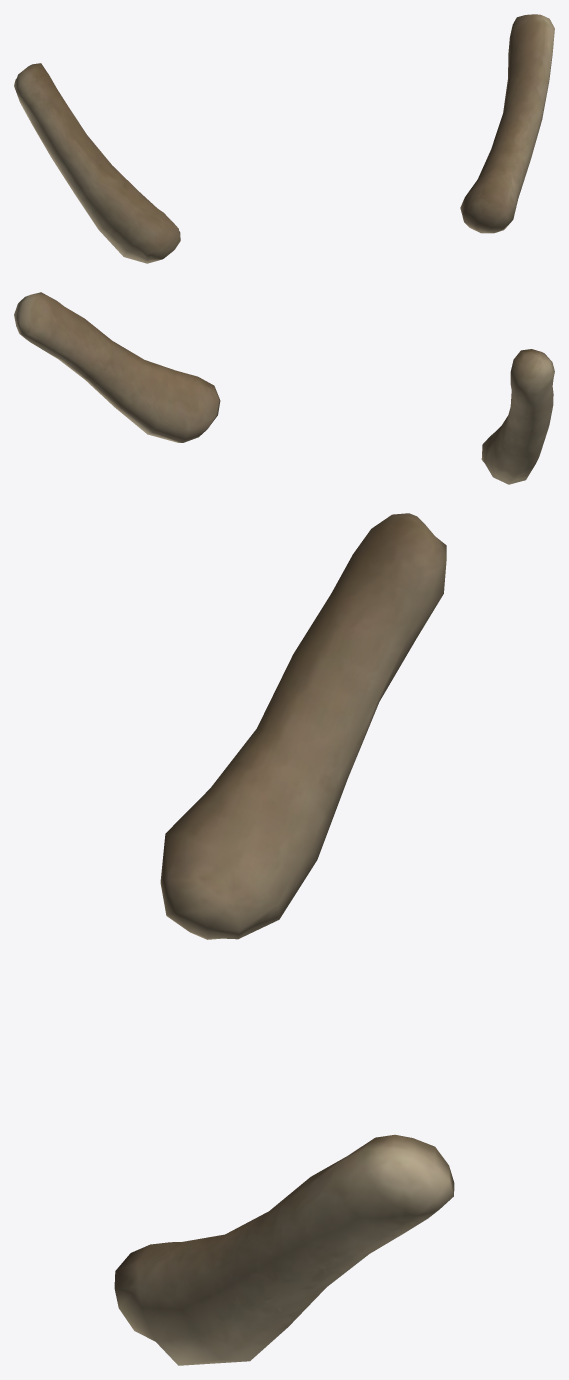
File: Thyrohyoid.glb
The picture shows the model from 3 angles, top to bottom: view 1: azimuth 30°, elevation 25°; view 2: azimuth 150°, elevation 25°; view 3: azimuth 270°, elevation 25°; orthographic projection. The views are drawn at different scales.
Visible parts, largest first — view 1: Thyrohyoid1:Group57151; view 2: Thyrohyoid1:Group57151; view 3: Thyrohyoid1:Group57151.
Boxes of the visible parts, bbox=[...] form: Thyrohyoid1:Group57151: bbox=[14, 14, 554, 263]; Thyrohyoid1:Group57151: bbox=[14, 292, 554, 484]; Thyrohyoid1:Group57151: bbox=[114, 513, 454, 1365].
Size of the model in its own units: 38.07 by 15.46 by 10.51.
Materials: 1 (1 with a texture image).
